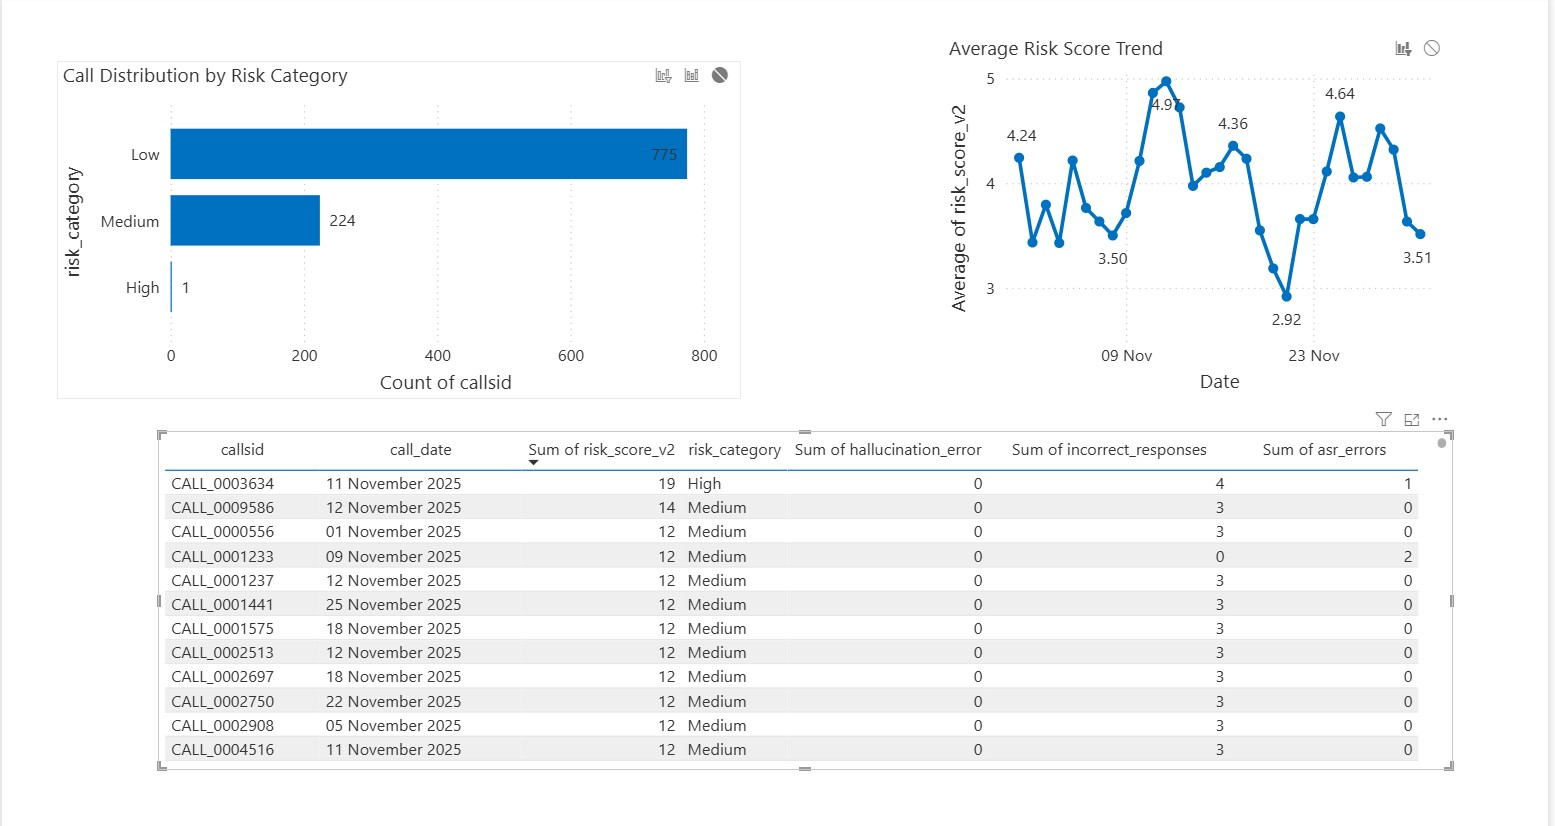

What the dashboard file says about the page in this screenshot:
{"tool":"powerbi","page":{"name":"Risk & Drill-Through","canvas":[1280,720],"ordinal":3},"visuals":[{"type":"clusteredBarChart","title":"Call Distribution by Risk Category","fields":{"Category":["RIsk Scored call list.risk_category"],"Y":["CountNonNull(RIsk Scored call list.callsid)"]},"box":[45.7,53.5,566.1,280.1],"z":0},{"type":"tableEx","fields":{"Values":["RIsk Scored call list.callsid","RIsk Scored call list.call_date","Sum(RIsk Scored call list.risk_score_v2)","RIsk Scored call list.risk_category","Sum(RIsk Scored call list.hallucination_error)","Sum(RIsk Scored call list.incorrect_responses)","Sum(RIsk Scored call list.asr_errors)"]},"box":[129.1,360,1071.7,280.6],"z":1},{"type":"lineChart","title":"Average Risk Score Trend","fields":{"Category":["calendar.Date"],"Y":["Avg(RIsk Scored call list.risk_score_v2)"]},"box":[778.5,31,422.1,302.4],"z":2}]}

Visuals, with their boxes on the page's 1280x720 design canvas (x1, y1, x2, y2). These are canvas units, not pixel positions in the 1555x826 screenshot, which may show the page scaled, cropped or inside an application window:
"Call Distribution by Risk Category" clusteredBarChart: <box>46,54,612,334</box>
tableEx - RIsk Scored call list.callsid x RIsk Scored call list.call_date: <box>129,360,1201,641</box>
"Average Risk Score Trend" lineChart: <box>778,31,1201,333</box>
